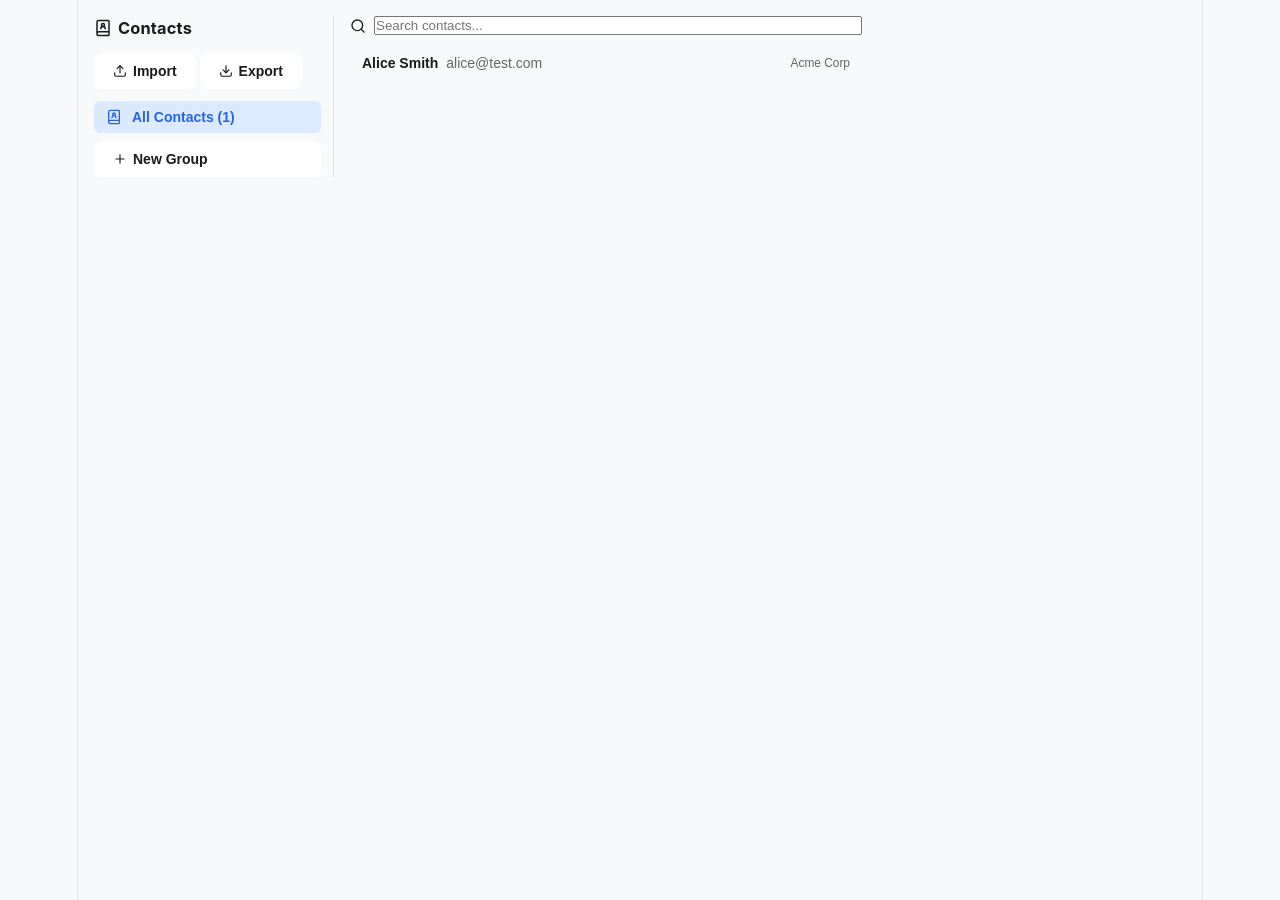
it: ContactsApp › shows contact detail when contact is clicked
Click the text "Alice Smith" at (400, 63), box [362,55,438,71]
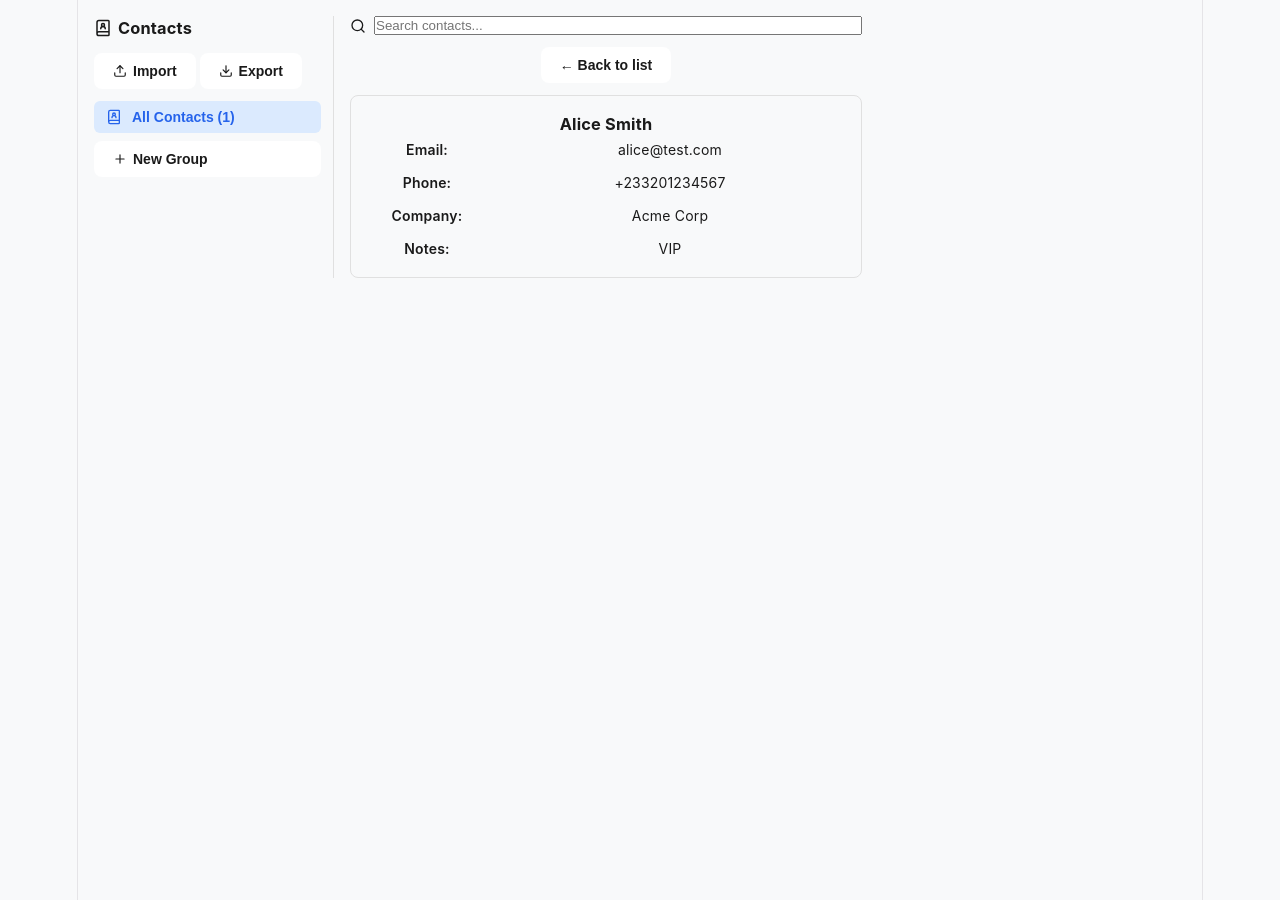
Expected: the text "alice@test.com" is shown, [618,141,722,158]
Expected: the text "+233201234567" is shown, [614,174,726,191]
Expected: the text "VIP" is shown, [658,240,681,257]
